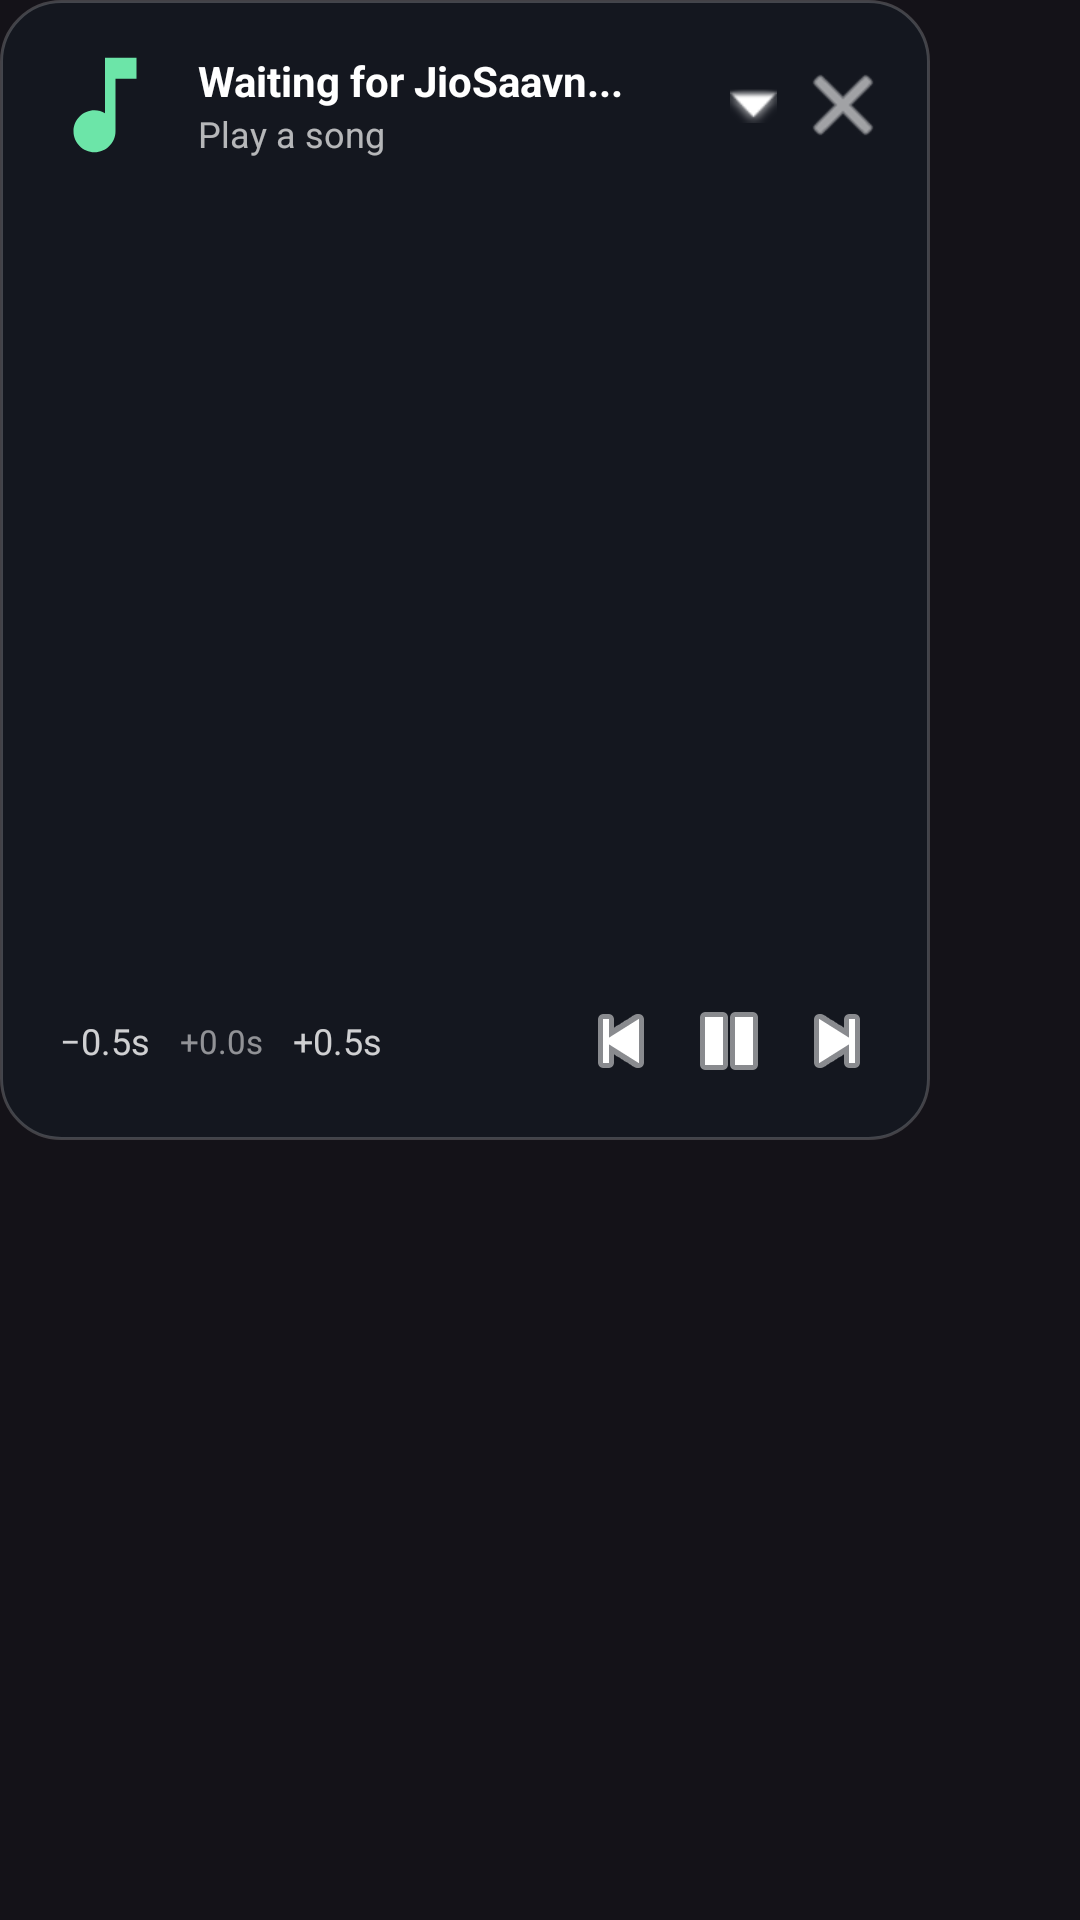

Icons on this 1080px×1920px Android screen, each with its box as {"left": x1, "top": y1, "right": x2, "bottom": y2}:
arrow down float: {"left": 730, "top": 90, "right": 777, "bottom": 122}
close clear cancel: {"left": 813, "top": 75, "right": 873, "bottom": 135}
music: {"left": 73, "top": 57, "right": 137, "bottom": 153}
next: {"left": 814, "top": 1014, "right": 860, "bottom": 1068}
pause: {"left": 700, "top": 1012, "right": 758, "bottom": 1070}
previous: {"left": 598, "top": 1014, "right": 644, "bottom": 1068}
